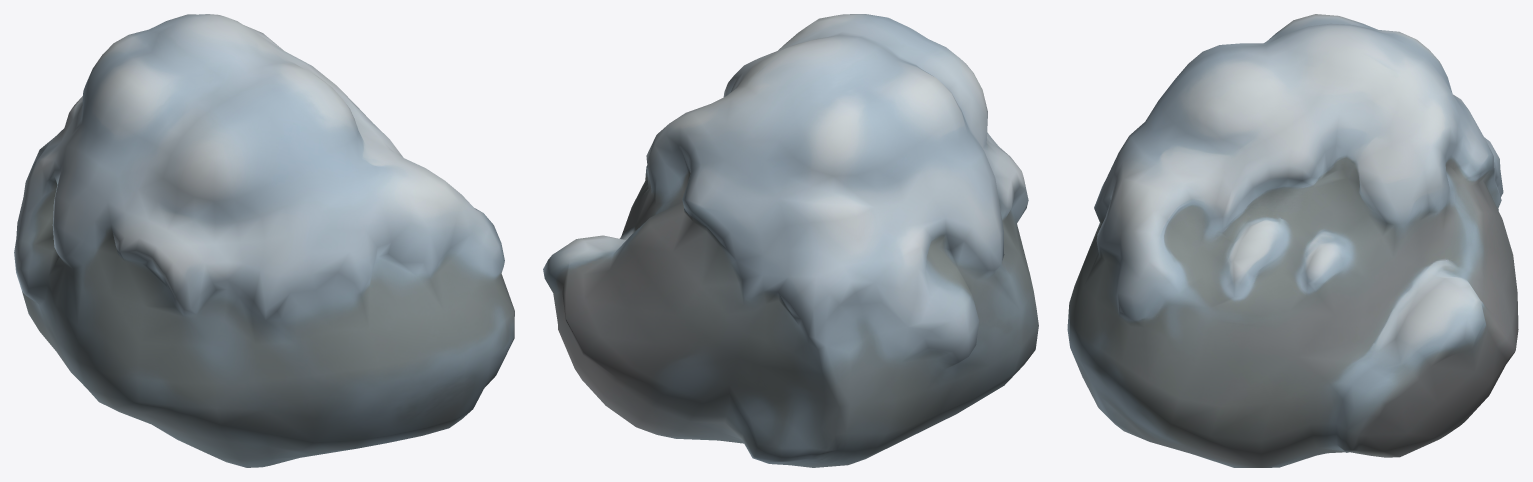
The model's file is event_boulder_tripo.glb.
The picture shows the model from 3 angles, left to right: view 1: azimuth 30°, elevation 25°; view 2: azimuth 150°, elevation 25°; view 3: azimuth 270°, elevation 25°; orthographic projection. The views are drawn at different scales.
Parts seen in each view (by area): view 1: tripo_node_886e1981-6645-484c-b3be-7d6f13b4b80a; view 2: tripo_node_886e1981-6645-484c-b3be-7d6f13b4b80a; view 3: tripo_node_886e1981-6645-484c-b3be-7d6f13b4b80a.
Boxes of the visible parts, x1,y1,x2,y2 form: tripo_node_886e1981-6645-484c-b3be-7d6f13b4b80a: (14,14,514,467); tripo_node_886e1981-6645-484c-b3be-7d6f13b4b80a: (543,14,1038,467); tripo_node_886e1981-6645-484c-b3be-7d6f13b4b80a: (1067,14,1518,467).
Bounding box in the file's own units: 0.998 × 0.916 × 0.998.
Materials: 1 (1 with a texture image).
